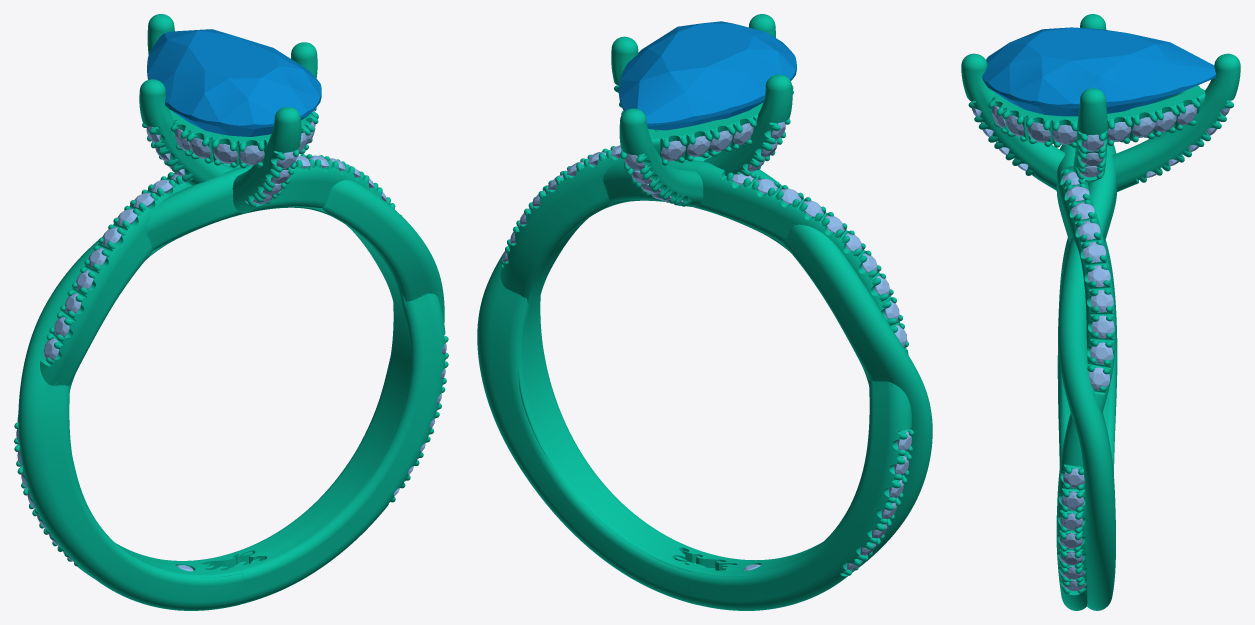
Rendered from ring6.glb.
The picture shows the model from 3 angles, left to right: view 1: azimuth 30°, elevation 25°; view 2: azimuth 150°, elevation 25°; view 3: azimuth 270°, elevation 25°; orthographic projection.
Parts seen in each view (by area): view 1: gold.3dm, Diamond_Pear; view 2: gold.3dm, Diamond_Pear; view 3: gold.3dm, Diamond_Pear, Diamond_Round.
Part boxes in pixels (<box>): gold.3dm: <box>14,14,448,610</box>; Diamond_Pear: <box>147,29,321,136</box>; gold.3dm: <box>477,14,932,610</box>; Diamond_Pear: <box>619,21,796,130</box>; gold.3dm: <box>961,14,1240,610</box>; Diamond_Pear: <box>982,27,1216,116</box>; Diamond_Round: <box>1052,125,1076,144</box>.
Bounding box in the file's own units: 2.41 × 2.89 × 1.35.
